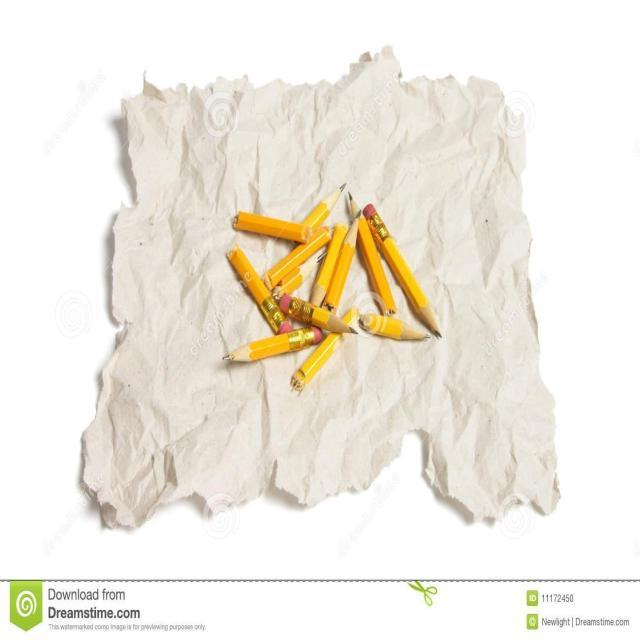cardboard paper: (81, 47, 557, 525)
